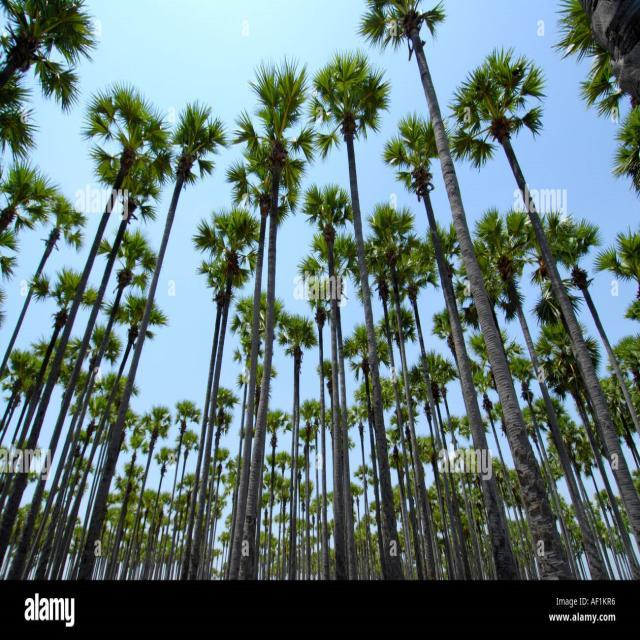Plam-Tree: (92, 86, 159, 498), (429, 48, 549, 150), (300, 153, 385, 263), (326, 59, 399, 145), (171, 97, 232, 193)
